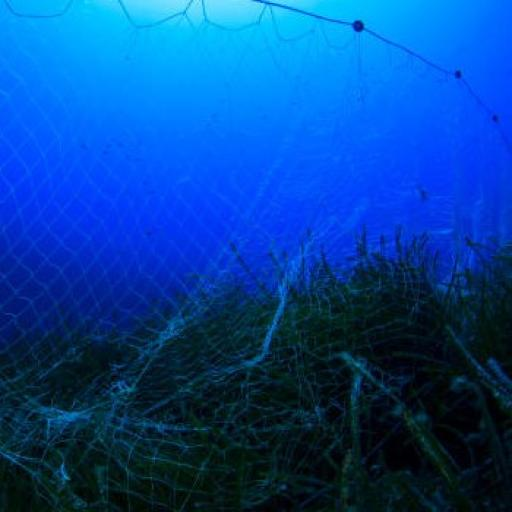net: (1, 0, 512, 512)
